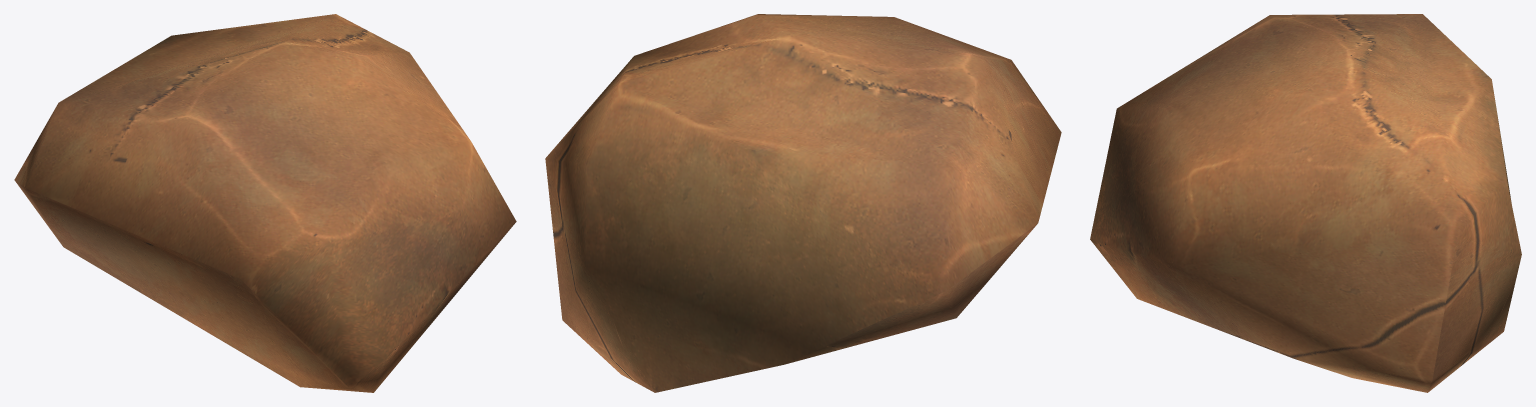
File: SmallRock2.fbx
3 views of the same model, side by side, from view 1: azimuth 30°, elevation 25°; view 2: azimuth 150°, elevation 25°; view 3: azimuth 270°, elevation 25° (orthographic). The views are drawn at different scales.
Parts seen in each view (by area): view 1: SmallRock2; view 2: SmallRock2; view 3: SmallRock2.
Boxes of the visible parts, bbox=[...] form: SmallRock2: bbox=[14, 14, 516, 392]; SmallRock2: bbox=[545, 14, 1061, 392]; SmallRock2: bbox=[1090, 14, 1521, 392].
Bounding box in the file's own units: 30.02 × 22.42 × 29.51.
